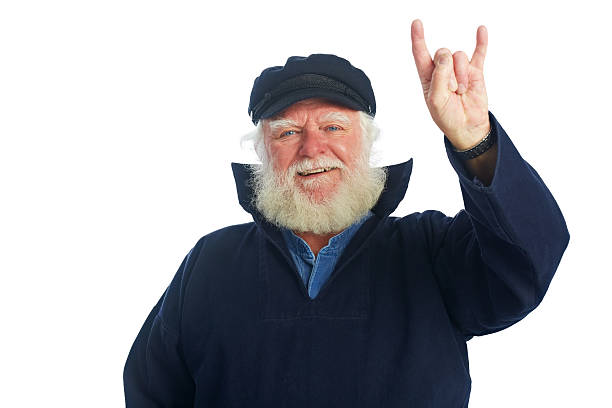Rock On: (403, 15, 516, 133)
